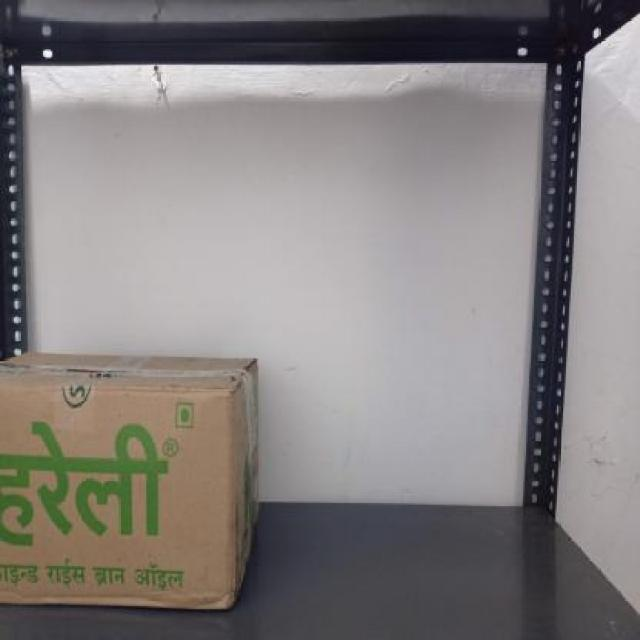box: (0, 387, 238, 609)
